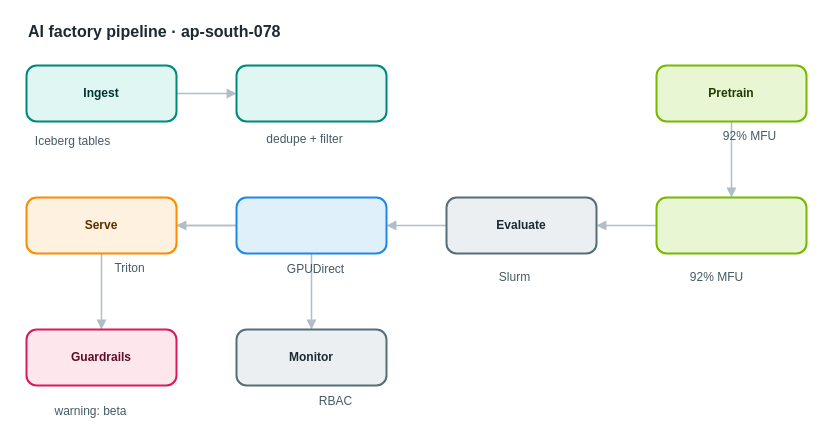
The diagram is 824 pixels wide and 438 high, and some of its shapes have lost their labels. Each missing label, with the centre of its shape:
Curate: (x=311, y=93)
Fine-tune: (x=731, y=225)
Model registry: (x=311, y=225)
